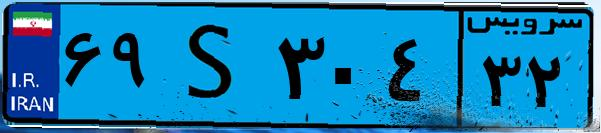0: (330, 28, 385, 110)
2: (525, 38, 570, 115)
3: (270, 28, 330, 110), (475, 38, 525, 113)
4: (385, 28, 445, 110)
6: (57, 26, 110, 100)
9: (110, 28, 158, 98)
S: (158, 12, 270, 120)
